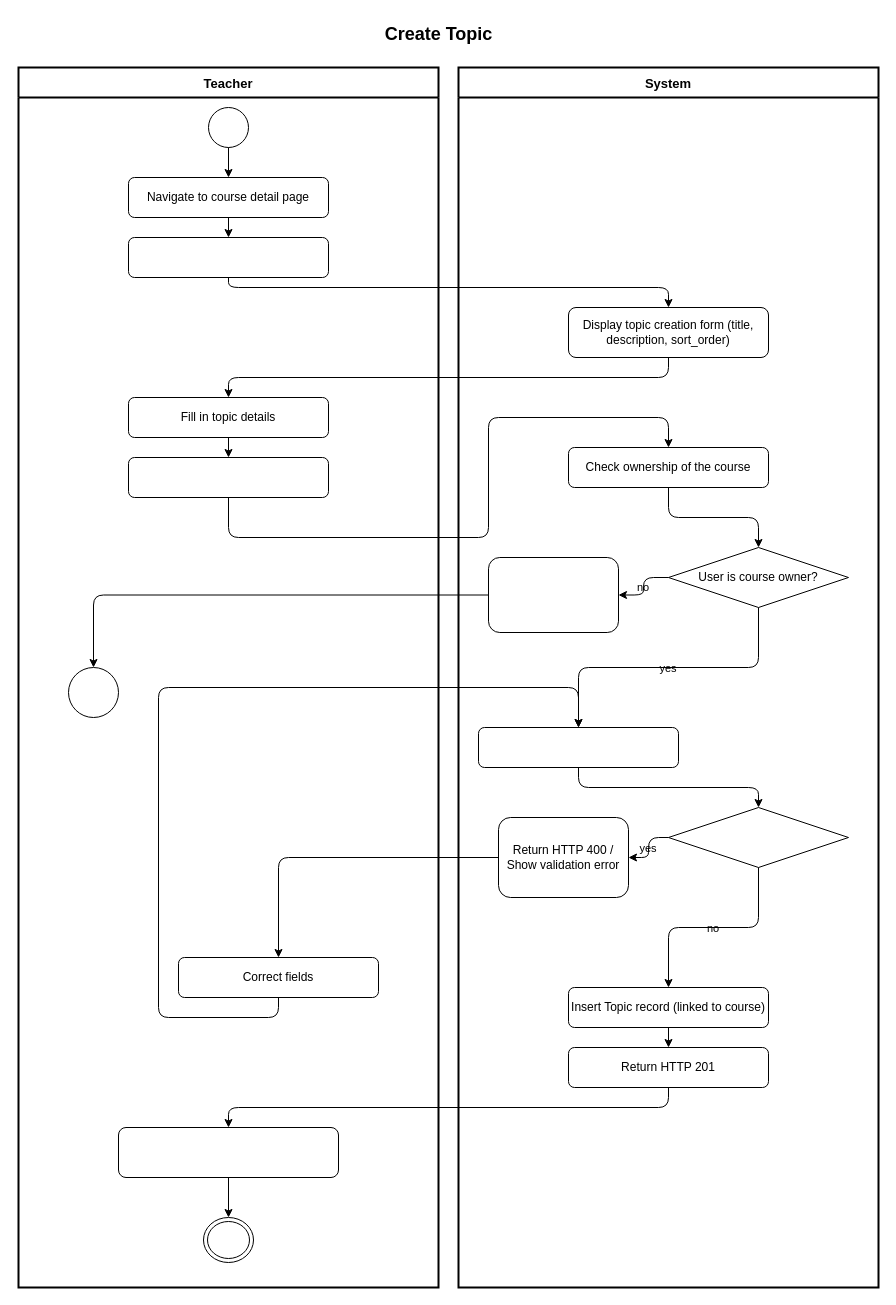
This 896x1305 diagram has some shape labels left out. Here are the shapes that lost their labels. From the top down, the centre of each, then its label:
point 228,257: Click "Add Topic"
point 228,477: Click "Create"
point 553,594: Return HTTP 403 Forbidden
point 578,747: Validate fields
point 758,837: Title empty?
point 228,1152: New topic appears in course's topic list; can now add Lessons and Challenges
